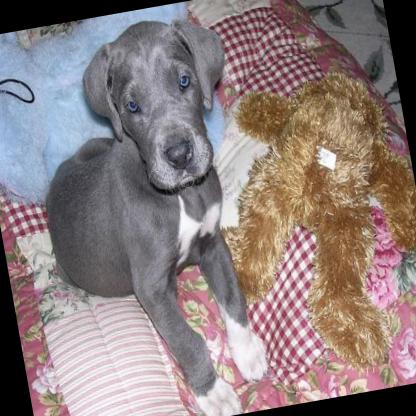Great_Dane: (12, 4, 288, 416)
